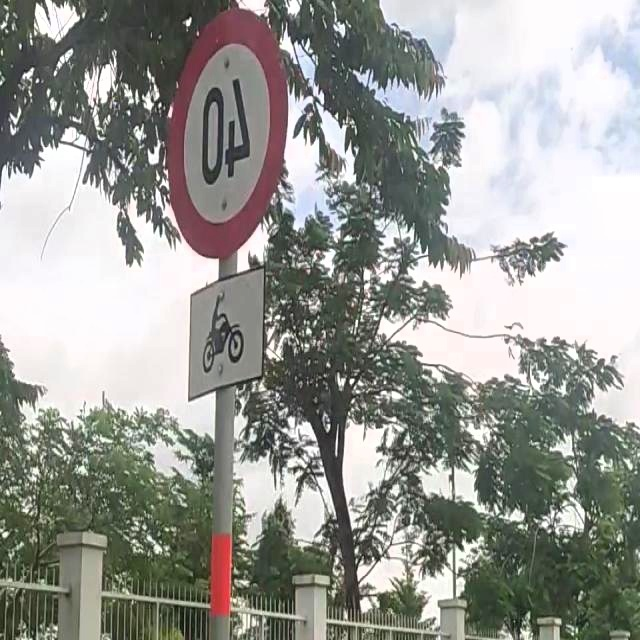P.127*40: (160, 5, 290, 263)
S.505a*Xe may: (179, 261, 271, 411)
